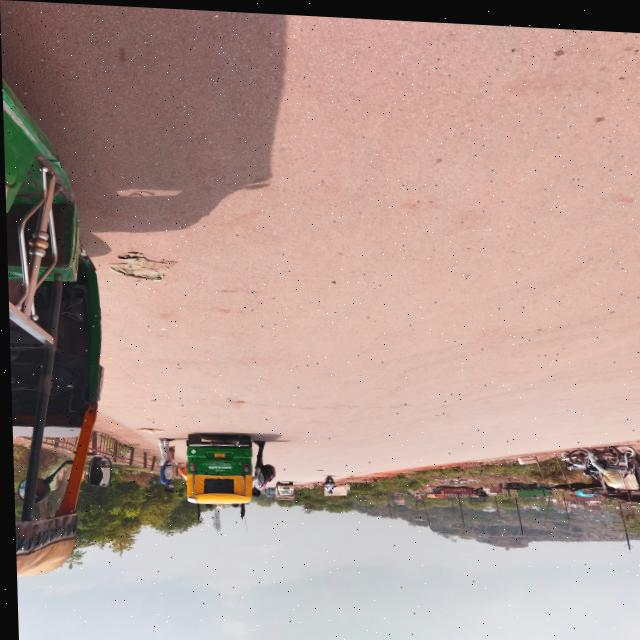plate: (210, 449, 225, 456)
